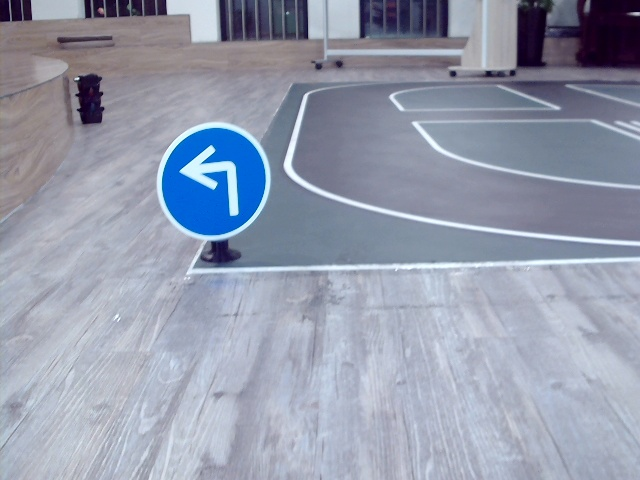turn_left: (178, 143, 244, 214)
